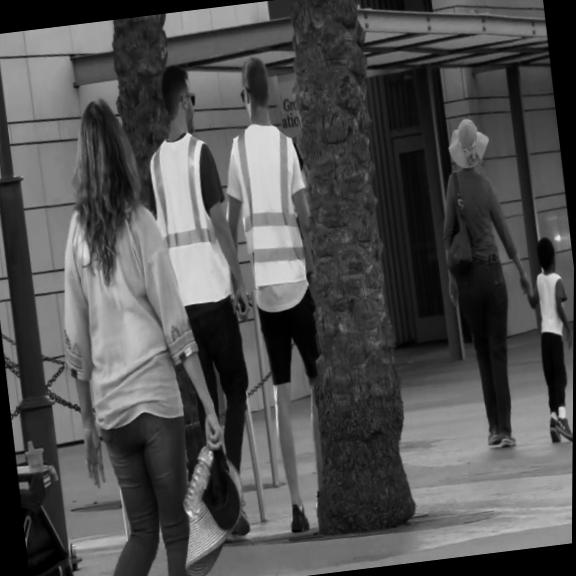safety_vest: (143, 128, 235, 306), (228, 114, 310, 289)
